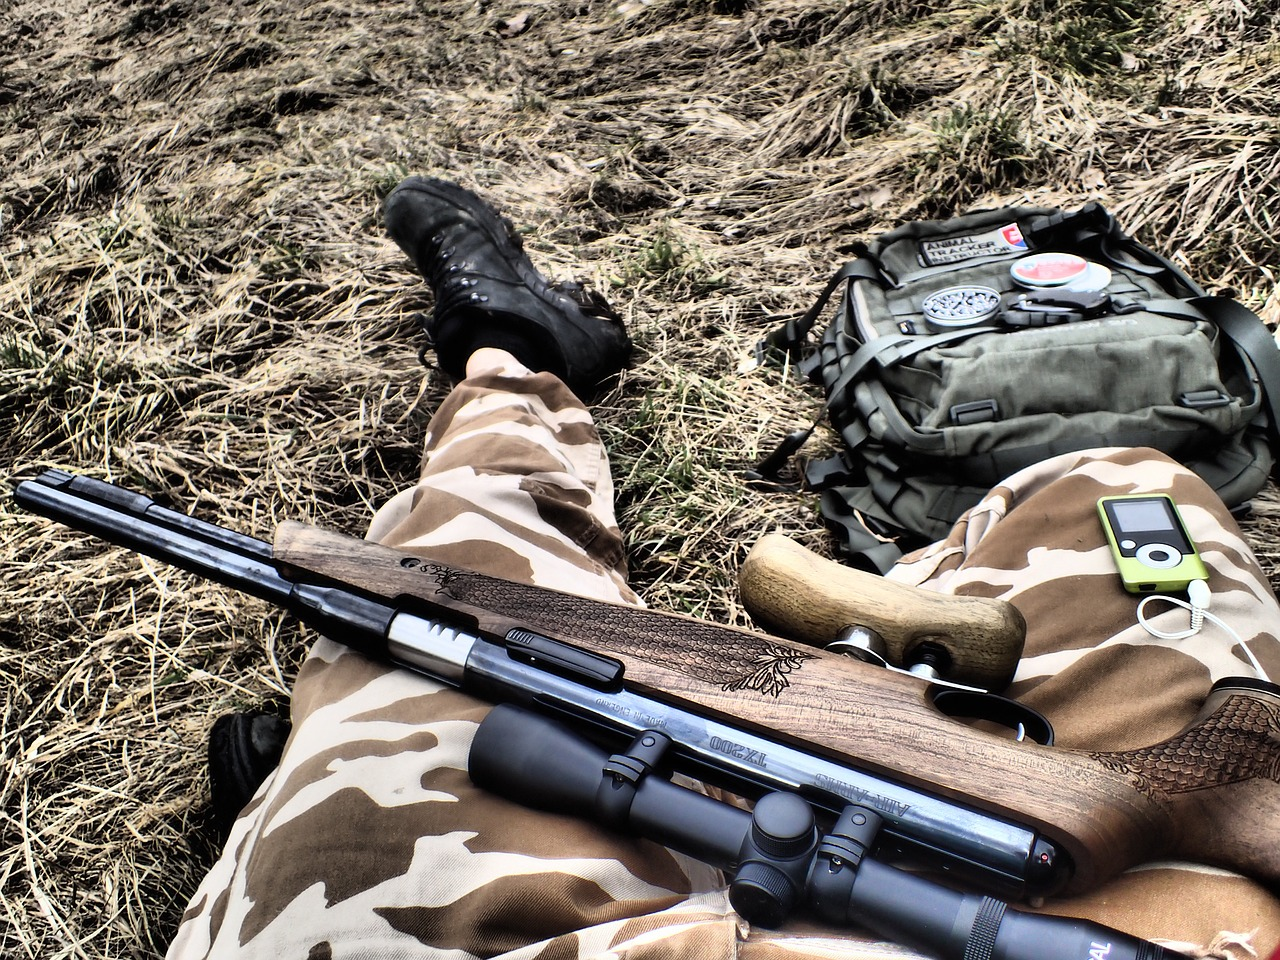gun: (13, 459, 1280, 960)
